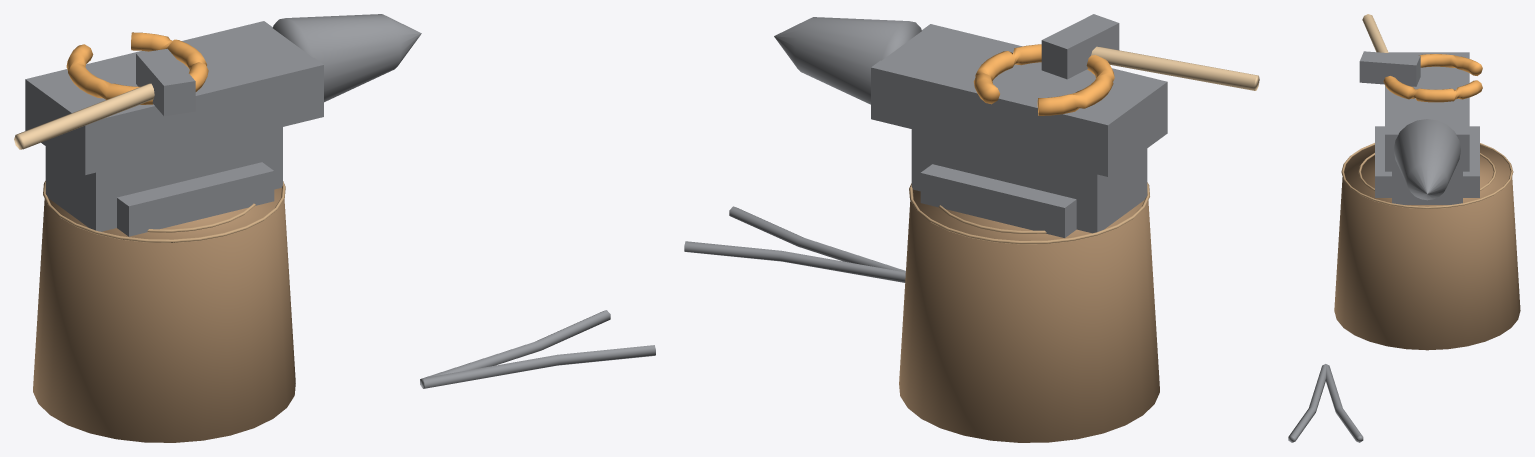
File: usta.glb
3 renders of one model, left to right at view 1: azimuth 30°, elevation 25°; view 2: azimuth 150°, elevation 25°; view 3: azimuth 270°, elevation 25°, orthographic. The views are drawn at different scales.
Visible parts, largest first — view 1: stump, anvil-face, anvil-waist, horn, anvil-foot, tongs (×2), horseshoe, hammer-head, hammer-handle, rings; view 2: stump, anvil-face, anvil-waist, horn, anvil-foot, tongs (×2), horseshoe, hammer-head, hammer-handle, rings; view 3: stump, anvil-face, horn, horseshoe, anvil-foot, hammer-head, tongs (×2), anvil-waist, rings (×2), hammer-handle.
Boxes of the visible parts, <box> form: stump: <box>33,188,295,442</box>; anvil-face: <box>25,21,323,174</box>; anvil-waist: <box>45,127,282,231</box>; horn: <box>273,14,421,102</box>; anvil-foot: <box>117,162,274,236</box>; tongs (×2): <box>420,310,655,388</box>; horseshoe: <box>66,32,208,104</box>; hammer-head: <box>136,48,195,116</box>; hammer-handle: <box>14,83,154,149</box>; rings: <box>43,181,285,242</box>; stump: <box>899,189,1159,442</box>; anvil-face: <box>871,24,1167,176</box>; anvil-waist: <box>911,129,1147,233</box>; horn: <box>774,17,921,104</box>; anvil-foot: <box>920,164,1076,237</box>; tongs (×2): <box>684,206,905,282</box>; horseshoe: <box>973,44,1114,115</box>; hammer-head: <box>1041,14,1119,79</box>; hammer-handle: <box>1091,46,1259,90</box>; rings: <box>909,182,1149,244</box>; stump: <box>1334,145,1520,350</box>; anvil-face: <box>1385,52,1469,171</box>; horn: <box>1393,119,1460,200</box>; horseshoe: <box>1383,54,1482,102</box>; anvil-foot: <box>1375,126,1479,197</box>; hammer-head: <box>1359,51,1420,86</box>; tongs (×2): <box>1288,364,1363,442</box>; anvil-waist: <box>1392,171,1462,204</box>; rings (×2): <box>1341,143,1513,208</box>; hammer-handle: <box>1362,14,1388,52</box>.
Bounding box in the file's own units: 2.81 × 1.59 × 1.37.
